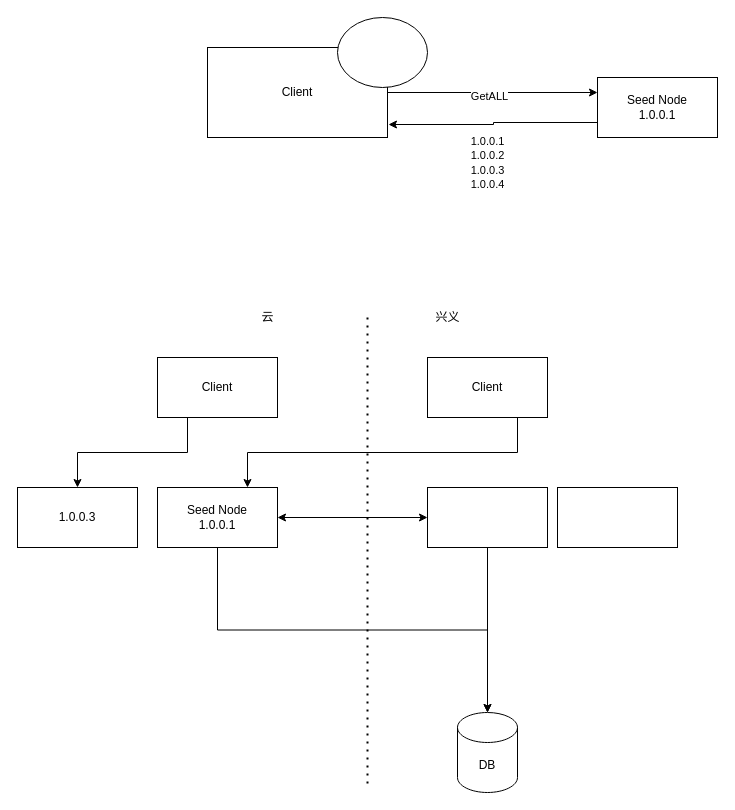
The diagram is 735 pixels wide and 810 high, and some of its shapes have lost their labels. Here are the shapes that lost their labels. From the top down, the centre of each, then its label:
At pixel 382 52: "SeedNodes 1.0.0.1 1.0.0.2".
At pixel 487 517: "Seed Node 1.0.0.2".
At pixel 617 517: "gconfig-service 1.0.0.4".
